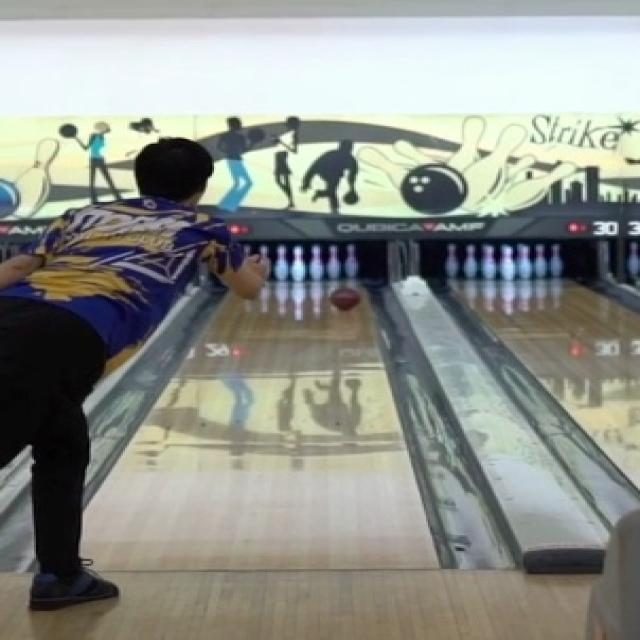alley: (85, 281, 434, 569)
balls: (328, 288, 360, 310)
bottle: (269, 244, 364, 280)
